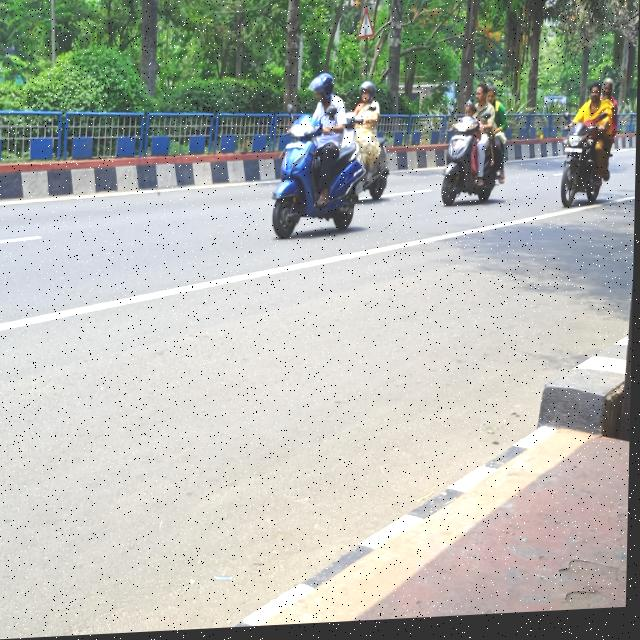bike: (269, 116, 376, 246), (440, 120, 507, 216), (553, 126, 609, 219)
